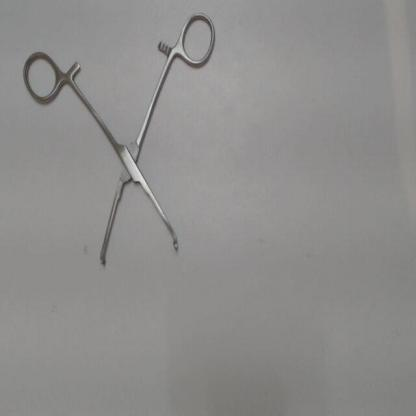Allis Tissue Forceps: (17, 4, 222, 279)
